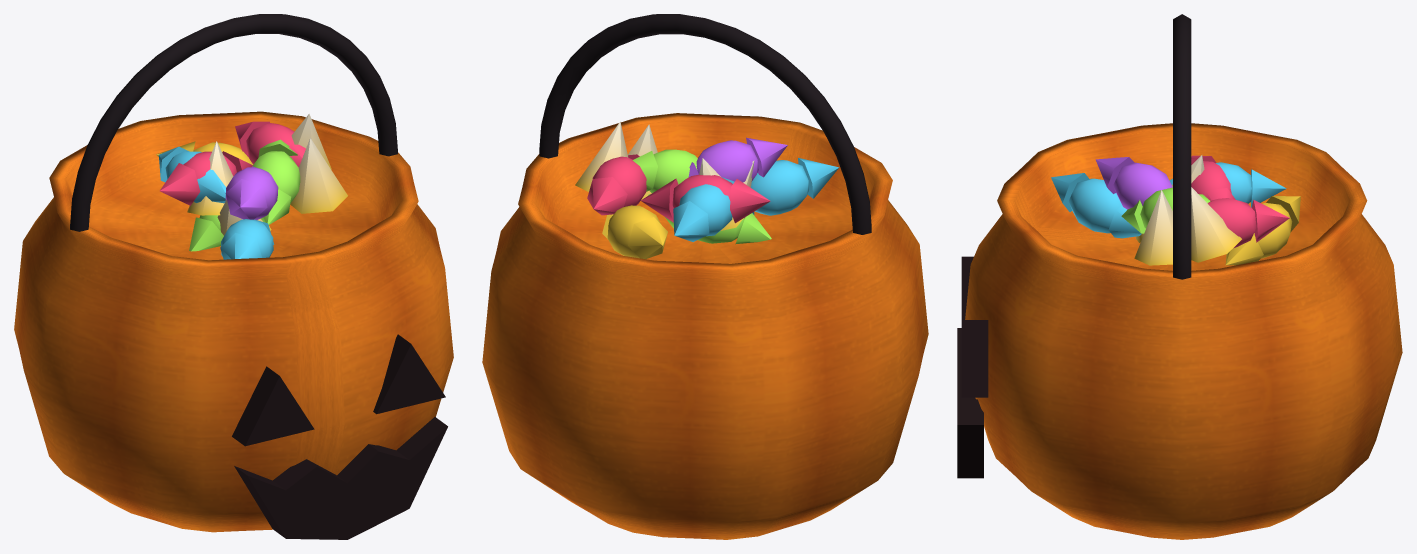
File: 462a661d-8522-47c1-adf8-5d6af7c5c096.glb
3 views of the same model, side by side, from view 1: azimuth 30°, elevation 25°; view 2: azimuth 150°, elevation 25°; view 3: azimuth 270°, elevation 25° (orthographic). The views are drawn at different scales.
Parts seen in each view (by area): view 1: Body; view 2: Body; view 3: Body.
Boxes of the visible parts, x1,y1,x2,y2 form: Body: (14,14,453,539); Body: (482,14,928,539); Body: (957,14,1402,539).
Bounding box in the file's own units: 0.5 × 0.562 × 0.505.
3 materials, 1 textured.
